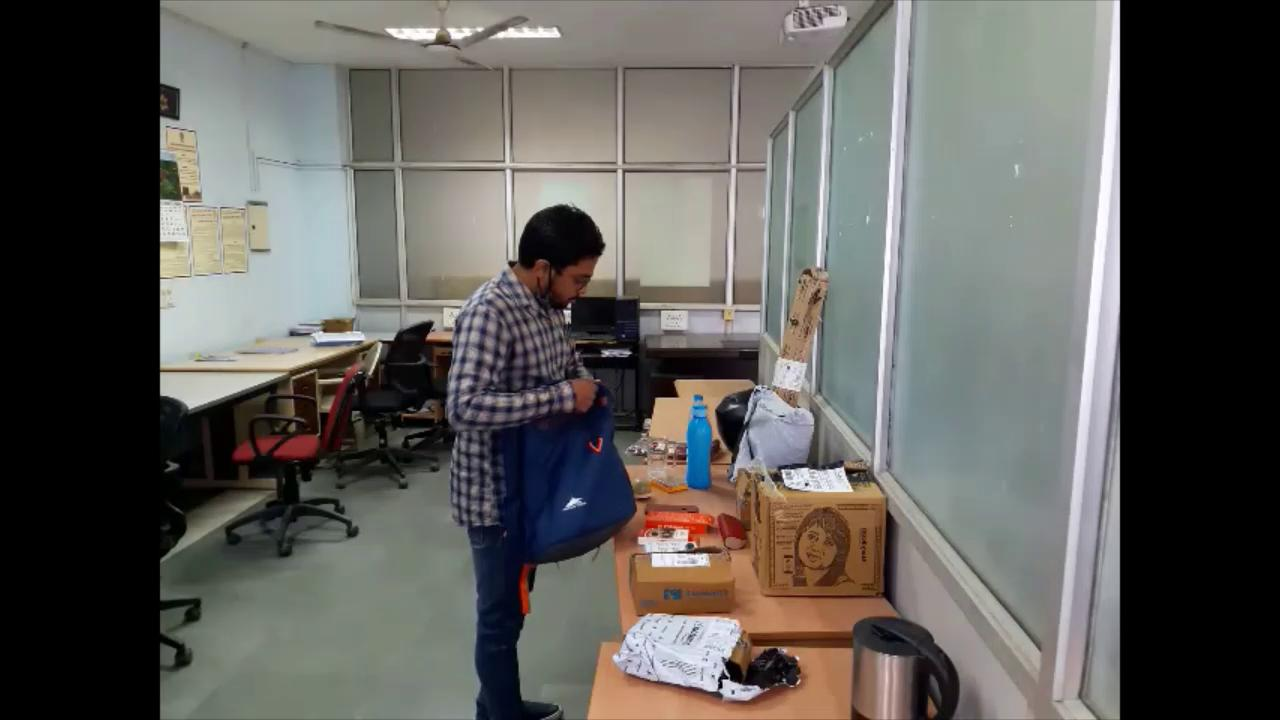shoplifting: (442, 201, 641, 720)
